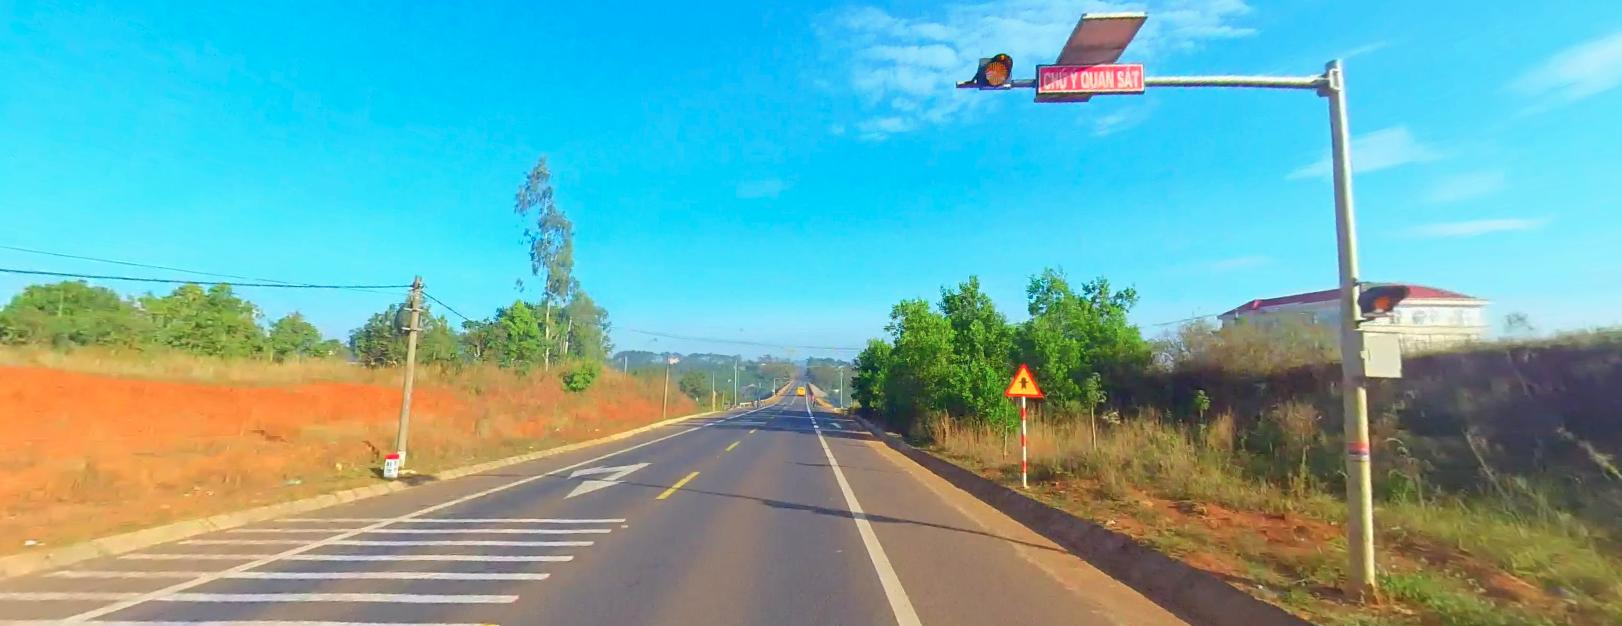Nguy hiem: (1001, 358, 1044, 398), (1001, 358, 1044, 396), (1004, 360, 1044, 397)
